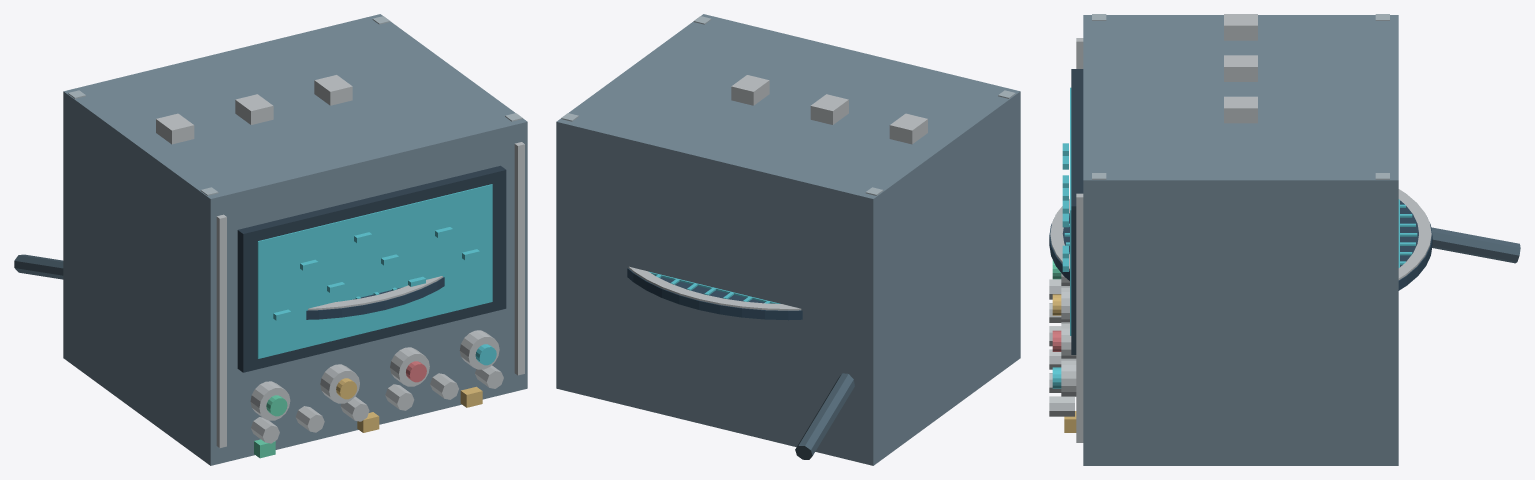
File: 64_L80_OpticalCalibrationReferenceCoupon.glb
3 renders of one model, left to right at view 1: azimuth 30°, elevation 25°; view 2: azimuth 150°, elevation 25°; view 3: azimuth 270°, elevation 25°, orthographic. The views are drawn at different scales.
Visible parts, largest first — view 1: OpticalCalibrationReferenceCoupon_Node_0000, OpticalCalibrationReferenceCoupon_Node_0008, OpticalCalibrationReferenceCoupon_Node_0007, OpticalCalibrationReferenceCoupon_Node_0005, OpticalCalibrationReferenceCoupon_Node_0006, OpticalCalibrationReferenceCoupon_Node_0035, OpticalCalibrationReferenceCoupon_Node_0034, OpticalCalibrationReferenceCoupon_Node_0025, OpticalCalibrationReferenceCoupon_Node_0026, OpticalCalibrationReferenceCoupon_Node_0027, OpticalCalibrationReferenceCoupon_Node_0036, OpticalCalibrationReferenceCoupon_Node_0017 (+7 smaller); view 2: OpticalCalibrationReferenceCoupon_Node_0000, OpticalCalibrationReferenceCoupon_Node_0035, OpticalCalibrationReferenceCoupon_Node_0034, OpticalCalibrationReferenceCoupon_Node_0036, OpticalCalibrationReferenceCoupon_Node_0025, OpticalCalibrationReferenceCoupon_Node_0027, OpticalCalibrationReferenceCoupon_Node_0026; view 3: OpticalCalibrationReferenceCoupon_Node_0000, OpticalCalibrationReferenceCoupon_Node_0007, OpticalCalibrationReferenceCoupon_Node_0006, OpticalCalibrationReferenceCoupon_Node_0034, OpticalCalibrationReferenceCoupon_Node_0036, OpticalCalibrationReferenceCoupon_Node_0035, OpticalCalibrationReferenceCoupon_Node_0027, OpticalCalibrationReferenceCoupon_Node_0025, OpticalCalibrationReferenceCoupon_Node_0026, OpticalCalibrationReferenceCoupon_Node_0023, OpticalCalibrationReferenceCoupon_Node_0033, OpticalCalibrationReferenceCoupon_Node_0008.
Part boxes in pixels (bbox=[...]): OpticalCalibrationReferenceCoupon_Node_0000: bbox=[63, 14, 527, 465]; OpticalCalibrationReferenceCoupon_Node_0008: bbox=[257, 184, 492, 358]; OpticalCalibrationReferenceCoupon_Node_0007: bbox=[237, 165, 506, 372]; OpticalCalibrationReferenceCoupon_Node_0005: bbox=[216, 214, 226, 447]; OpticalCalibrationReferenceCoupon_Node_0006: bbox=[514, 142, 524, 375]; OpticalCalibrationReferenceCoupon_Node_0035: bbox=[306, 277, 444, 319]; OpticalCalibrationReferenceCoupon_Node_0034: bbox=[14, 254, 63, 279]; OpticalCalibrationReferenceCoupon_Node_0025: bbox=[156, 113, 194, 144]; OpticalCalibrationReferenceCoupon_Node_0026: bbox=[235, 94, 273, 124]; OpticalCalibrationReferenceCoupon_Node_0027: bbox=[314, 75, 352, 105]; OpticalCalibrationReferenceCoupon_Node_0036: bbox=[308, 276, 442, 310]; OpticalCalibrationReferenceCoupon_Node_0017: bbox=[250, 381, 290, 420]; OpticalCalibrationReferenceCoupon_Node_0000: bbox=[556, 14, 1020, 465]; OpticalCalibrationReferenceCoupon_Node_0035: bbox=[627, 268, 802, 320]; OpticalCalibrationReferenceCoupon_Node_0034: bbox=[795, 373, 854, 459]; OpticalCalibrationReferenceCoupon_Node_0036: bbox=[628, 266, 801, 310]; OpticalCalibrationReferenceCoupon_Node_0025: bbox=[889, 113, 927, 144]; OpticalCalibrationReferenceCoupon_Node_0027: bbox=[731, 75, 769, 105]; OpticalCalibrationReferenceCoupon_Node_0026: bbox=[810, 94, 848, 124]; OpticalCalibrationReferenceCoupon_Node_0000: bbox=[1083, 15, 1398, 465]; OpticalCalibrationReferenceCoupon_Node_0007: bbox=[1071, 69, 1083, 354]; OpticalCalibrationReferenceCoupon_Node_0006: bbox=[1076, 193, 1083, 442]; OpticalCalibrationReferenceCoupon_Node_0034: bbox=[1431, 227, 1520, 263]; OpticalCalibrationReferenceCoupon_Node_0036: bbox=[1050, 189, 1431, 279]; OpticalCalibrationReferenceCoupon_Node_0035: bbox=[1049, 200, 1432, 290]; OpticalCalibrationReferenceCoupon_Node_0027: bbox=[1224, 96, 1257, 123]; OpticalCalibrationReferenceCoupon_Node_0025: bbox=[1224, 14, 1257, 40]; OpticalCalibrationReferenceCoupon_Node_0026: bbox=[1224, 55, 1257, 81]; OpticalCalibrationReferenceCoupon_Node_0023: bbox=[1061, 358, 1076, 396]; OpticalCalibrationReferenceCoupon_Node_0033: bbox=[1049, 396, 1074, 416]; OpticalCalibrationReferenceCoupon_Node_0008: bbox=[1070, 87, 1071, 335].
Bounding box in the file's own units: 0.92 × 0.7786 × 1.11.
